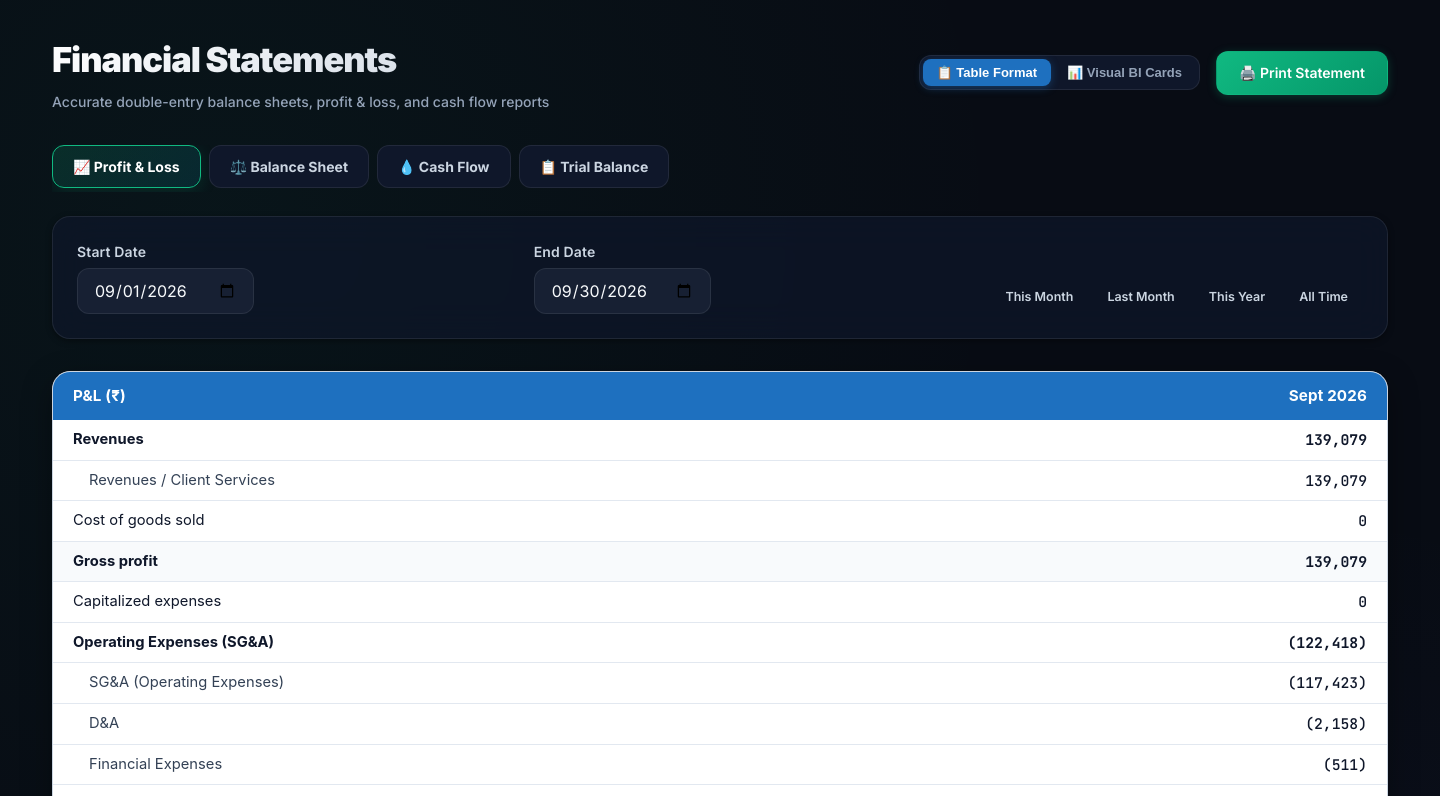
Test: UI: ReportsPage Financial Statements & Print Table › toggles between Table Format and Visual BI Cards view
Expected: the column heading "P&L (₹)" is shown, [53,372,1147,420]
Click the button "📊 Visual BI Cards". click: (1124, 73)
box: [1053,59,1196,86]
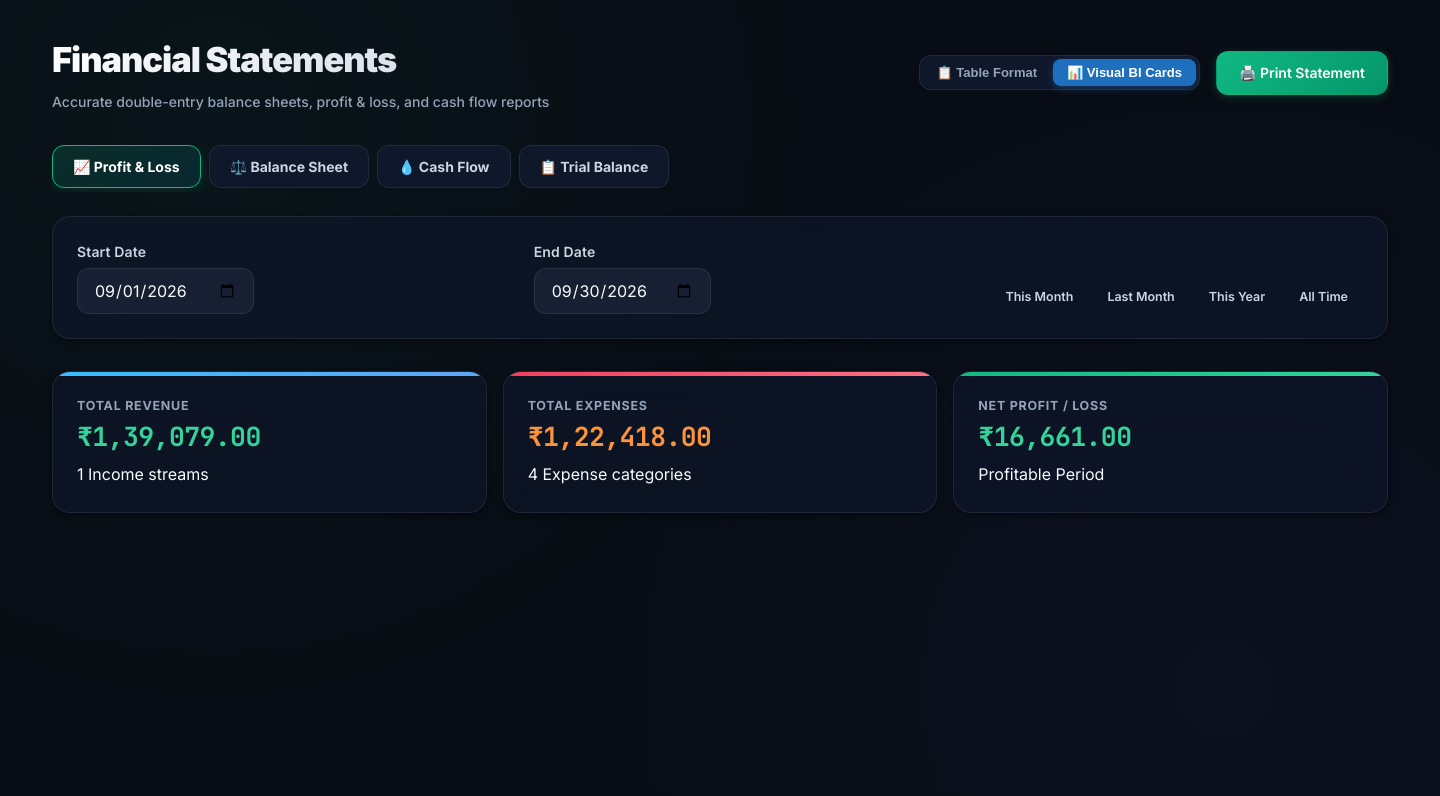
Now the text "Total Revenue" is shown, box [77,398,189,413]
Now the text "Net Profit / Loss" is shown, box [978,398,1108,413]
Click the button "📋 Table Format". click: (987, 73)
box: [922,59,1051,86]
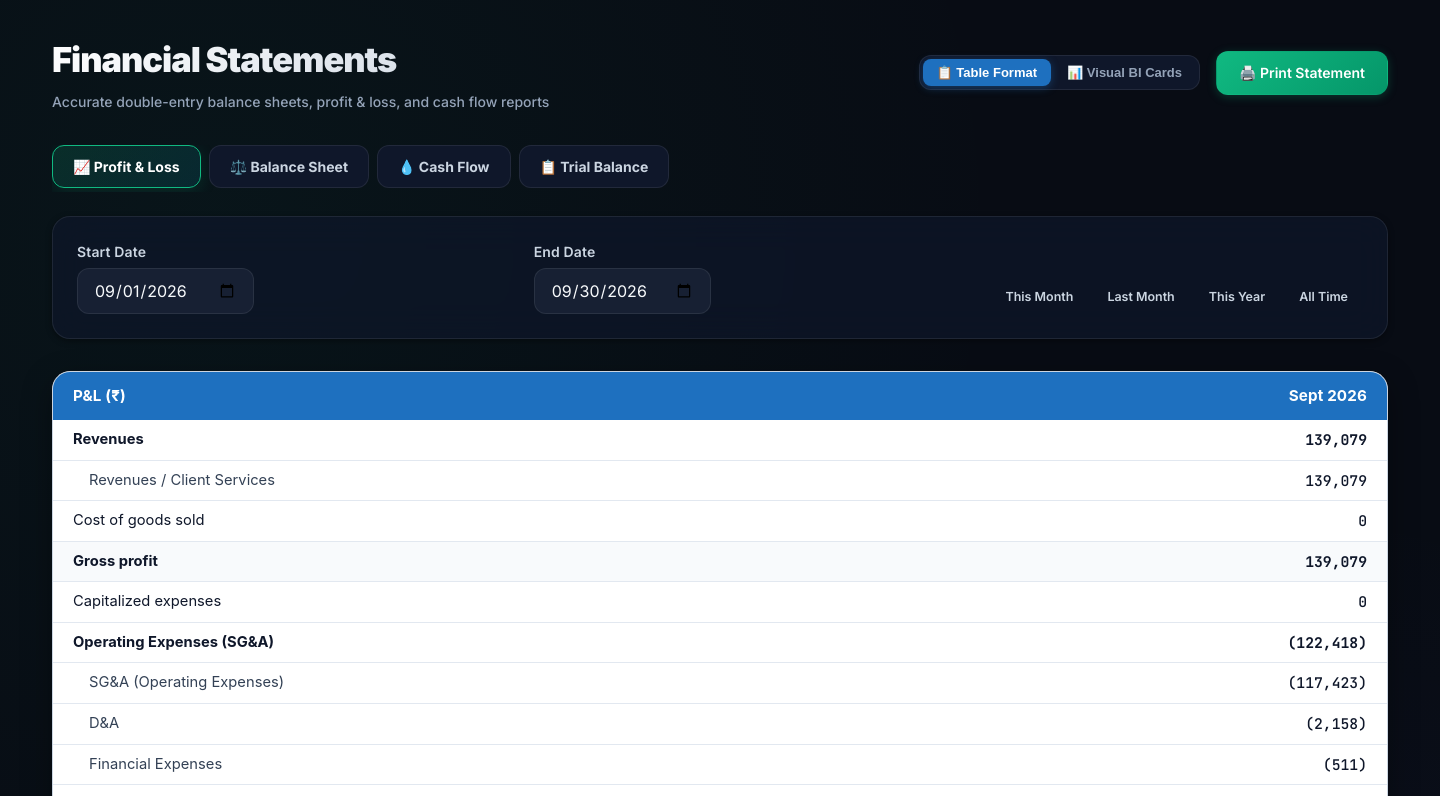
Now the column heading "P&L (₹)" is shown, box [53,372,1147,420]
